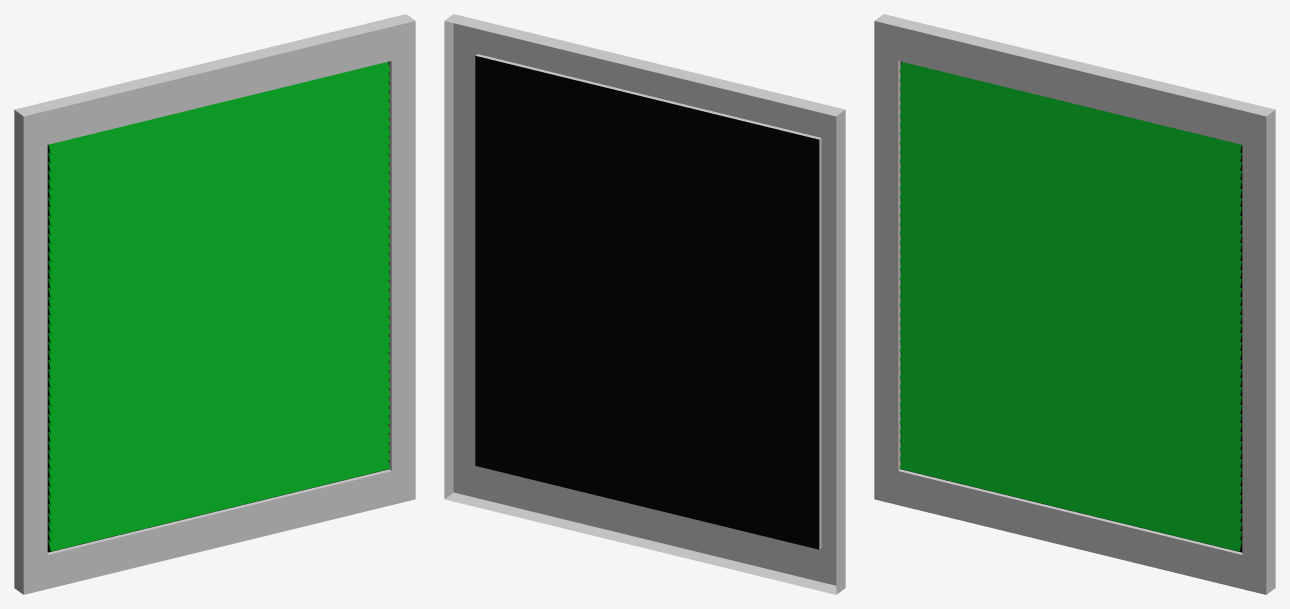
File: okno.fbx
The picture shows the model from 3 angles, left to right: view 1: azimuth 30°, elevation 25°; view 2: azimuth 150°, elevation 25°; view 3: azimuth 330°, elevation 25°; orthographic projection.
Visible parts, largest first — view 1: Okno; view 2: Okno; view 3: Okno.
Boxes of the visible parts, x1,y1,x2,y2 form: Okno: (14,14,415,594); Okno: (444,14,845,594); Okno: (874,14,1275,594).
Bounding box in the file's own units: 120 × 140 × 5.56.
